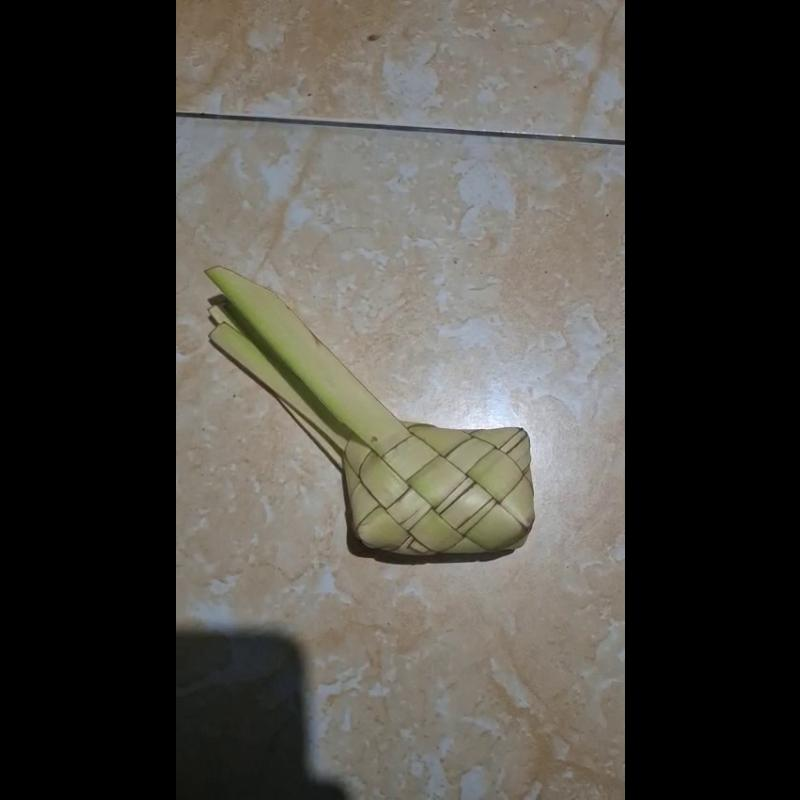Tipat Bantal: (206, 262, 537, 560)
